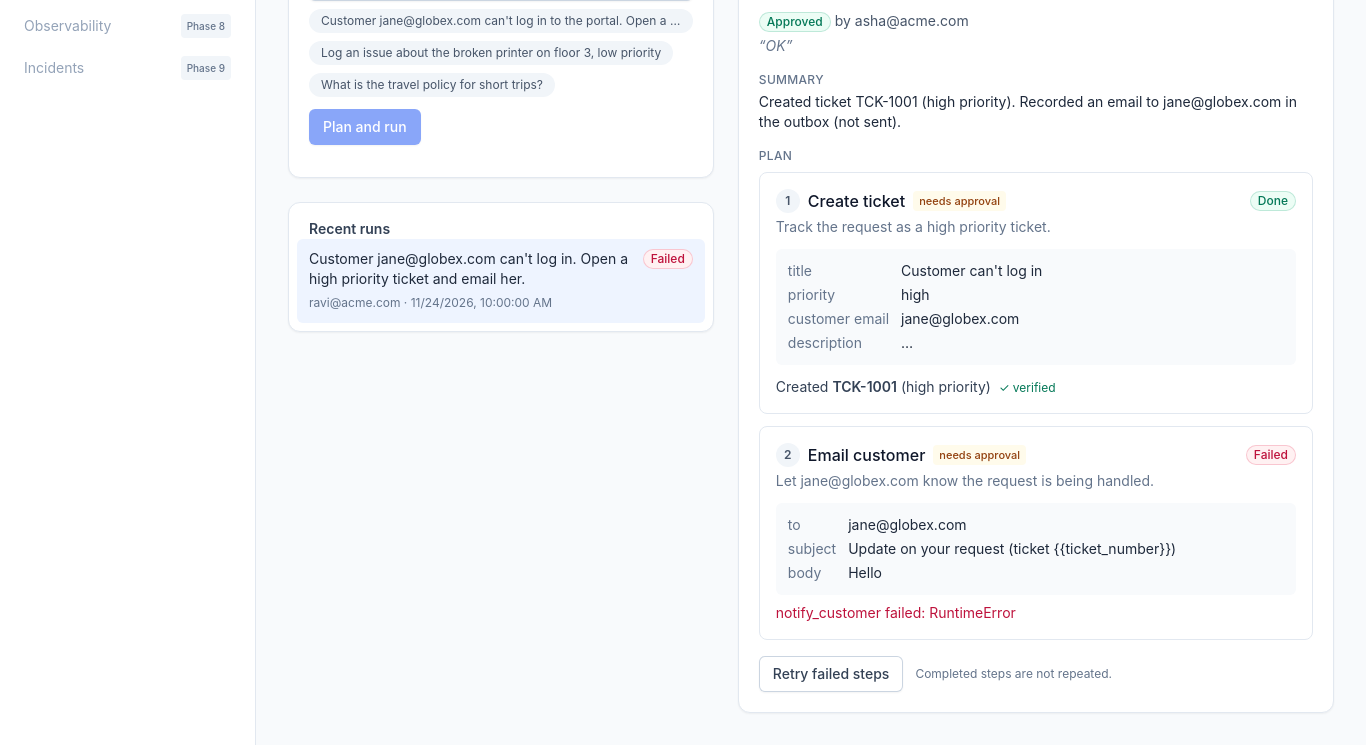
Agent workflows › lets a manager retry a failed approved run
(page scrolled)
Click the button "Retry failed steps" at (831, 674), box [759,656,903,692]
(page scrolled)
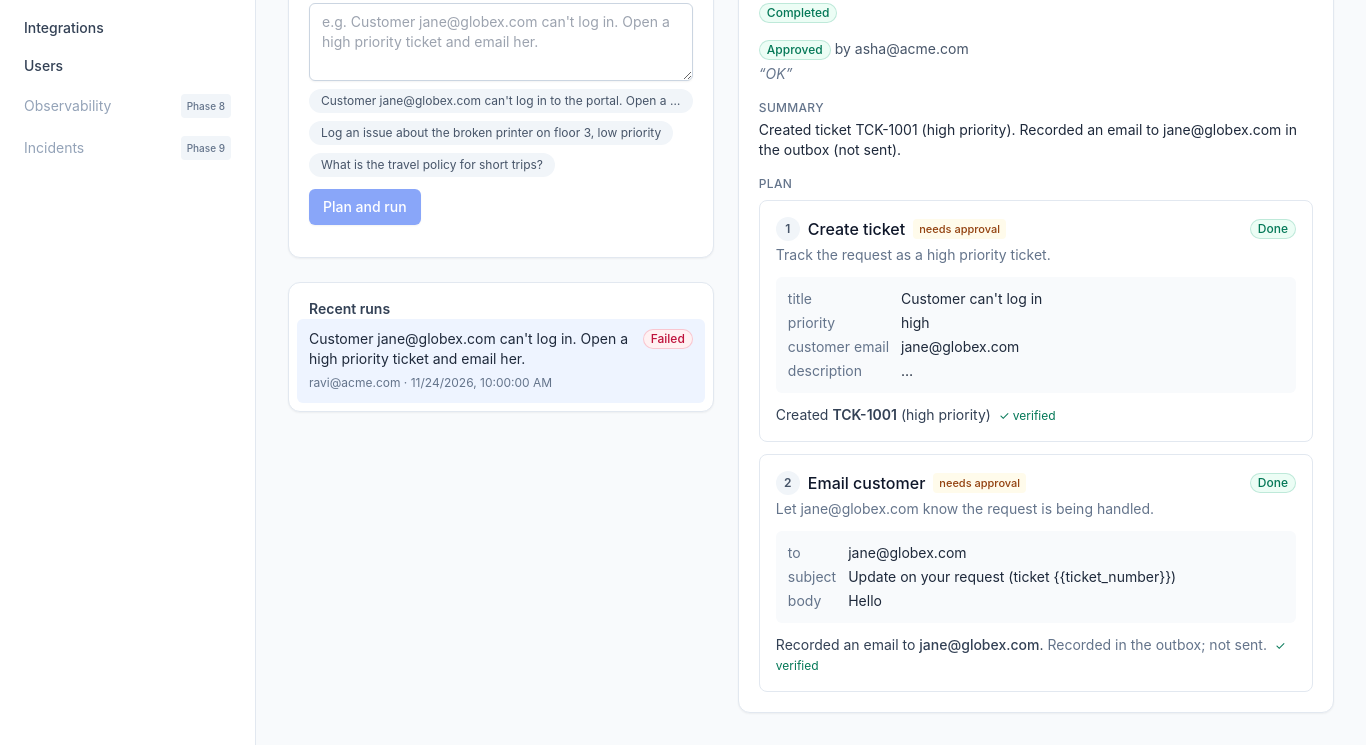
Expected: the text "Completed" is shown, [759,3,837,23]
